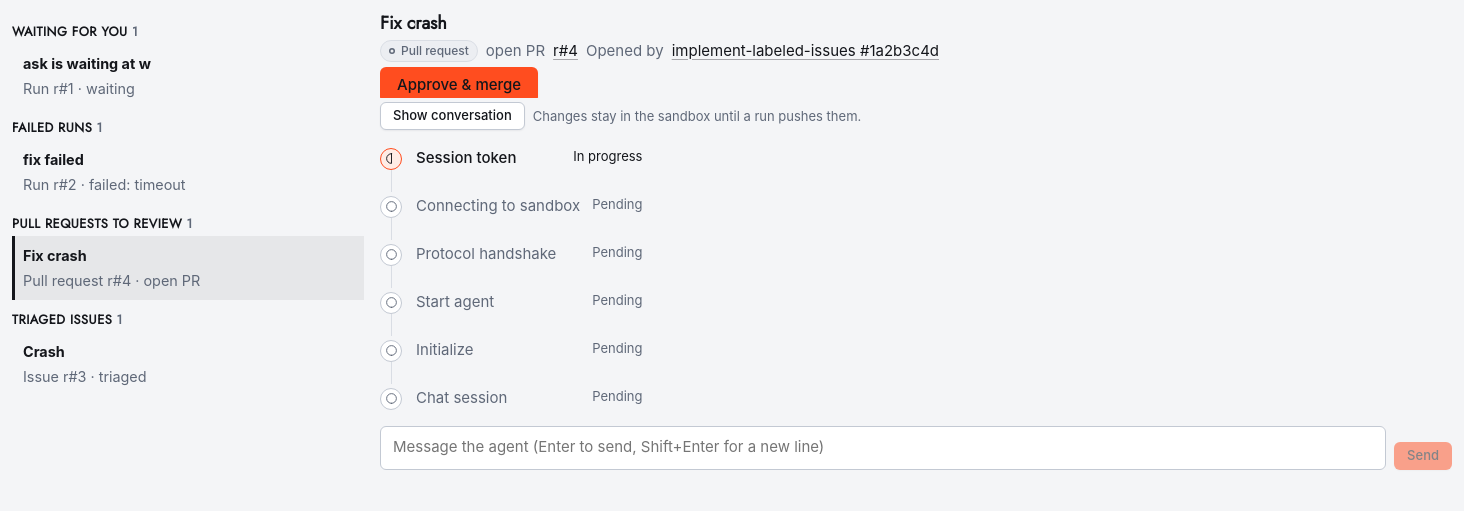
Test case: TaskList › Approve & merge runs the merge and shows the steps
What coordinates should you click on to do the following:
click the button "Approve & merge"
I would click on:
 (459, 84)
Its box is [380, 66, 538, 102].
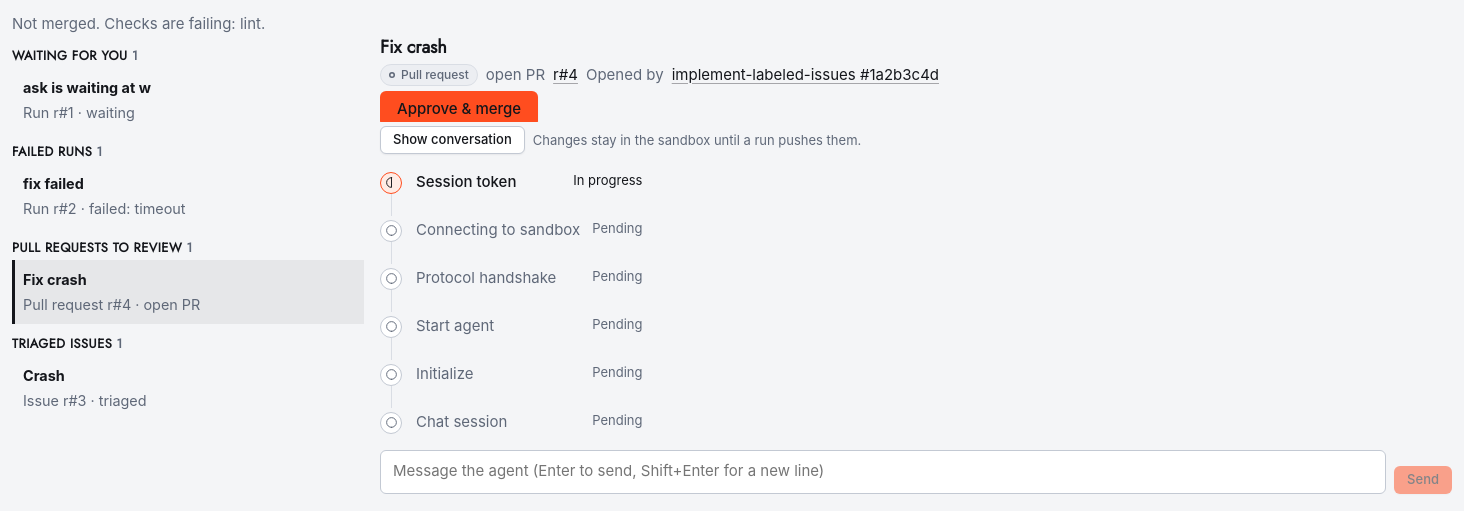
Now the list named "Approve and merge progress" is shown, box [393, 180, 1431, 390]
